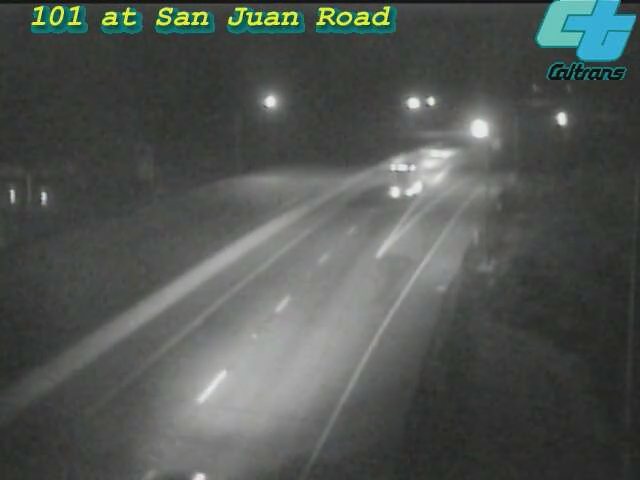vehicle: (362, 145, 442, 225), (455, 103, 505, 153), (536, 93, 586, 143), (420, 125, 470, 175), (396, 134, 446, 184)
